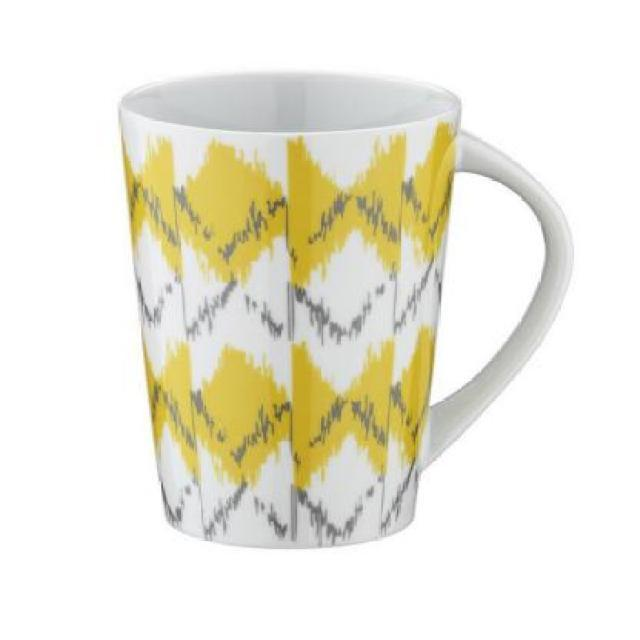taza: (118, 68, 576, 552)
